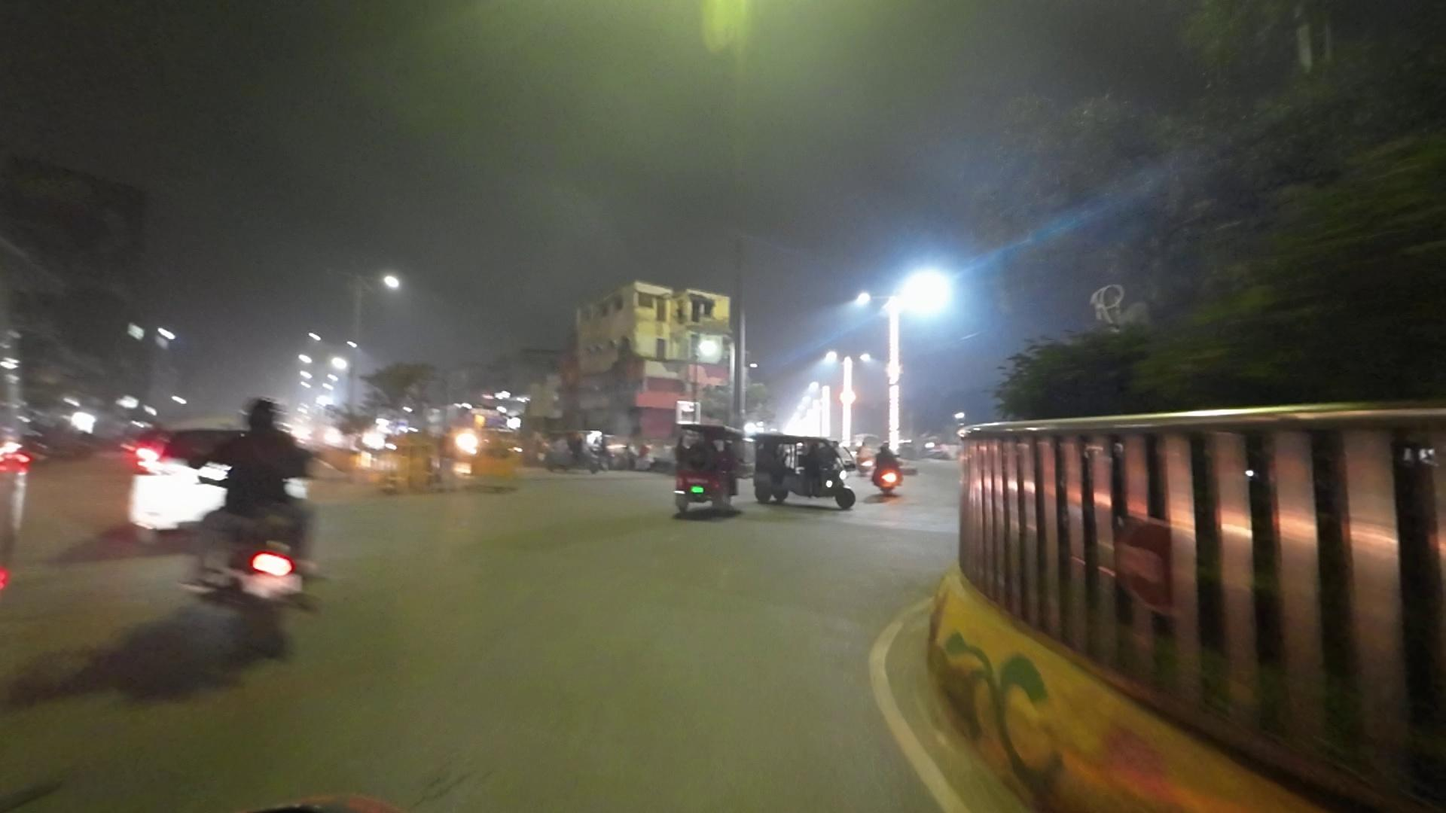streetlight: (322, 262, 355, 280)
